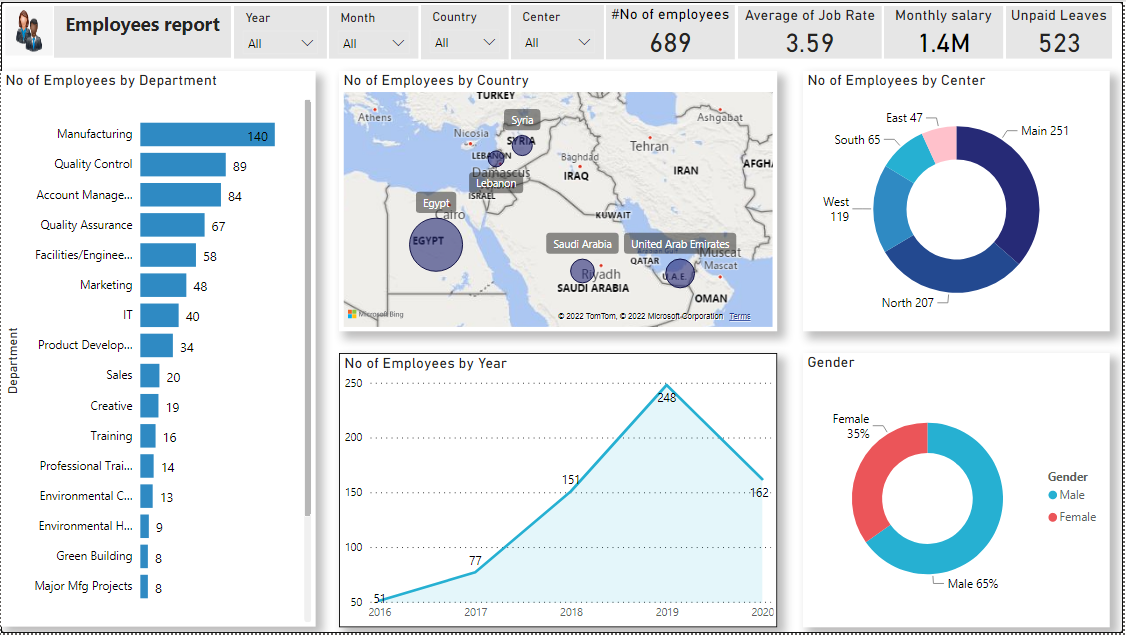

The page's visual inventory and layout, read from the dashboard file:
{"tool":"powerbi","page":{"name":"Employees","canvas":[1280,720],"ordinal":0},"visuals":[{"type":"clusteredBarChart","title":"#No of Employees  by  Department","fields":{"Y":["CountNonNull(EmpTable.No)"],"Category":["EmpTable.Department"]},"box":[0,116.4,359.4,603.6],"z":0},{"type":"donutChart","title":"#No of Employees by Center","fields":{"Category":["EmpTable.Center"],"Y":["CountNonNull(EmpTable.No)"]},"box":[359.4,116.4,350.3,302.4],"z":1000},{"type":"donutChart","title":"Gender","fields":{"Category":["EmpTable.Gender"],"Y":["CountNonNull(EmpTable.Gender)"]},"box":[359.4,430.2,350.3,289.8],"z":2000},{"type":"map","title":"#No of Employees  by Country","fields":{"Category":["EmpTable.Country"],"Size":["Sum(EmpTable.No)"]},"box":[721.1,116.4,386.8,313.8],"z":3000},{"type":"areaChart","title":"#No of Employees  by Year","fields":{"Category":["EmpTable.Start Date.Variation.Date Hierarchy.Year","EmpTable.Start Date.Variation.Date Hierarchy.Quarter","EmpTable.Start Date.Variation.Date Hierarchy.Month","EmpTable.Start Date.Variation.Date Hierarchy.Day"],"Y":["CountNonNull(EmpTable.No)"]},"box":[721.1,430.2,559.1,289.8],"z":4000},{"type":"card","title":"#No of employees","fields":{"Values":["CountNonNull(EmpTable.No)"]},"box":[1119.4,131.2,159.7,92.4],"z":5000},{"type":"card","title":"Monthly salary","fields":{"Values":["Sum(EmpTable.Monthly Salary)"]},"box":[1120.2,230.5,159.7,89],"z":6000},{"type":"card","title":"Average of Job Rate","fields":{"Values":["Avg(EmpTable.Job Rate)"]},"box":[1119.4,328.6,159.7,94.7],"z":7000},{"type":"image","box":[0,19.4,79.9,71.9],"z":8000},{"type":"textbox","box":[83.3,19.4,192.8,71.9],"z":9000},{"type":"slicer","title":"country","fields":{"Values":["EmpTable.Country"]},"box":[698.3,0,581.9,99.3],"z":10000},{"type":"slicer","title":"Date","fields":{"Values":["EmpTable.Start Date"]},"box":[447.3,0,273.9,90.1],"z":11000},{"type":"slicer","fields":{"Values":["EmpTable.Center"]},"box":[284.1,0,163.2,91.3],"z":12000},{"type":"image","box":[465.5,548.8,73,71.9],"z":13000}]}

Visuals, with their boxes in screenshot pixels (x1, y1, x2, y2), scaled from the page's 1280x720 canvas onto the 1126x640 screenshot:
"#No of Employees  by  Department" clusteredBarChart: <region>0, 103, 316, 639</region>
"#No of Employees by Center" donutChart: <region>316, 103, 624, 372</region>
"Gender" donutChart: <region>316, 382, 624, 639</region>
"#No of Employees  by Country" map: <region>634, 103, 975, 382</region>
"#No of Employees  by Year" areaChart: <region>634, 382, 1125, 639</region>
"#No of employees" card: <region>985, 117, 1125, 199</region>
"Monthly salary" card: <region>985, 205, 1125, 284</region>
"Average of Job Rate" card: <region>985, 292, 1125, 376</region>
image: <region>0, 17, 70, 81</region>
textbox: <region>73, 17, 243, 81</region>
"country" slicer: <region>614, 0, 1125, 88</region>
"Date" slicer: <region>393, 0, 634, 80</region>
slicer - EmpTable.Center: <region>250, 0, 393, 81</region>
image: <region>409, 488, 474, 552</region>
